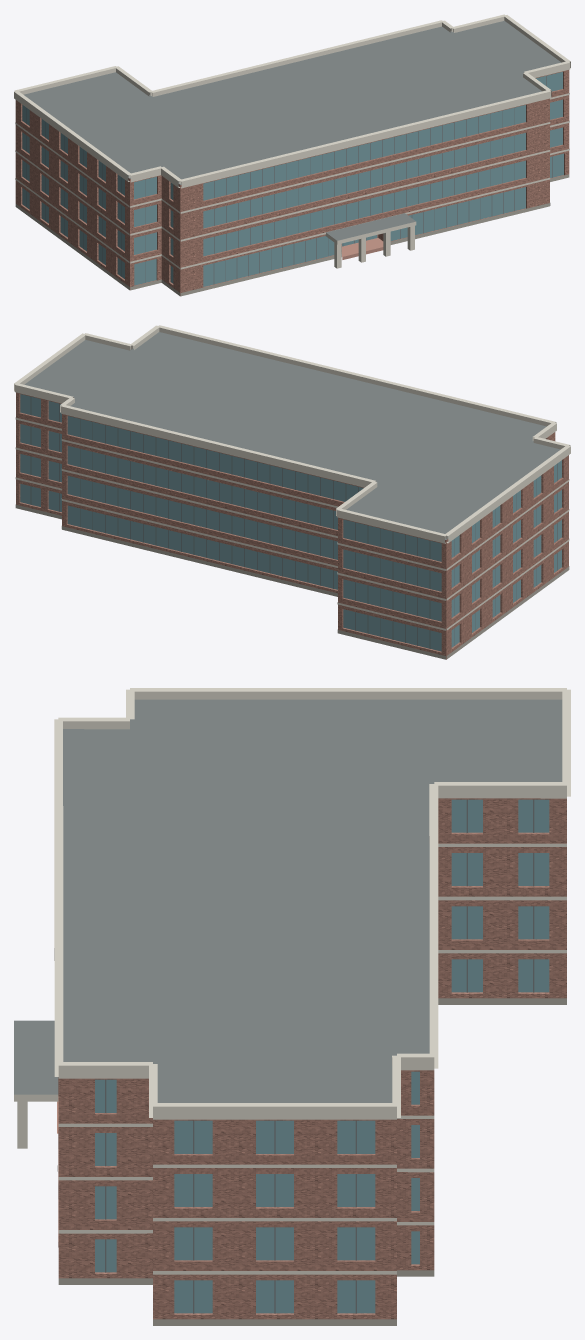
3 renders of one model, top to bottom at view 1: azimuth 30°, elevation 25°; view 2: azimuth 150°, elevation 25°; view 3: azimuth 270°, elevation 25°, orthographic. The views are drawn at different scales.
Visible parts, largest first — view 1: international__roof, international__glass, international__wall, international__trim, international__frame, international__base, international__column, international__entranceThreshold_0; view 2: international__roof, international__glass, international__wall, international__trim, international__frame, international__base; view 3: international__roof, international__wall, international__trim, international__glass, international__base, international__frame.
Boxes of the visible parts, x1=… form: international__roof: x1=24, y1=21, x2=560, y2=240; international__glass: x1=22, y1=72, x2=563, y2=286; international__wall: x1=15, y1=70, x2=569, y2=295; international__trim: x1=14, y1=14, x2=570, y2=269; international__frame: x1=26, y1=76, x2=552, y2=284; international__base: x1=15, y1=174, x2=569, y2=296; international__column: x1=334, y1=225, x2=414, y2=268; international__entranceThreshold_0: x1=342, y1=238, x2=383, y2=259; international__roof: x1=24, y1=332, x2=560, y2=539; international__glass: x1=20, y1=394, x2=561, y2=651; international__wall: x1=16, y1=392, x2=568, y2=659; international__trim: x1=14, y1=325, x2=570, y2=630; international__frame: x1=30, y1=397, x2=557, y2=648; international__base: x1=15, y1=504, x2=569, y2=659; international__roof: x1=14, y1=699, x2=562, y2=1102; international__wall: x1=58, y1=798, x2=566, y2=1319; international__trim: x1=14, y1=688, x2=570, y2=1274; international__glass: x1=95, y1=799, x2=549, y2=1313; international__base: x1=57, y1=998, x2=566, y2=1325; international__frame: x1=105, y1=799, x2=534, y2=1313.
Size of the model in its own units: 62.42 by 15.75 by 35.1.
9 materials, 1 textured.
